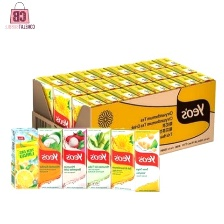carton: (9, 124, 38, 193), (32, 72, 68, 123), (50, 82, 85, 132), (135, 128, 161, 192), (109, 128, 134, 192), (62, 127, 87, 191), (38, 126, 63, 190), (86, 126, 109, 193), (70, 91, 102, 130)
